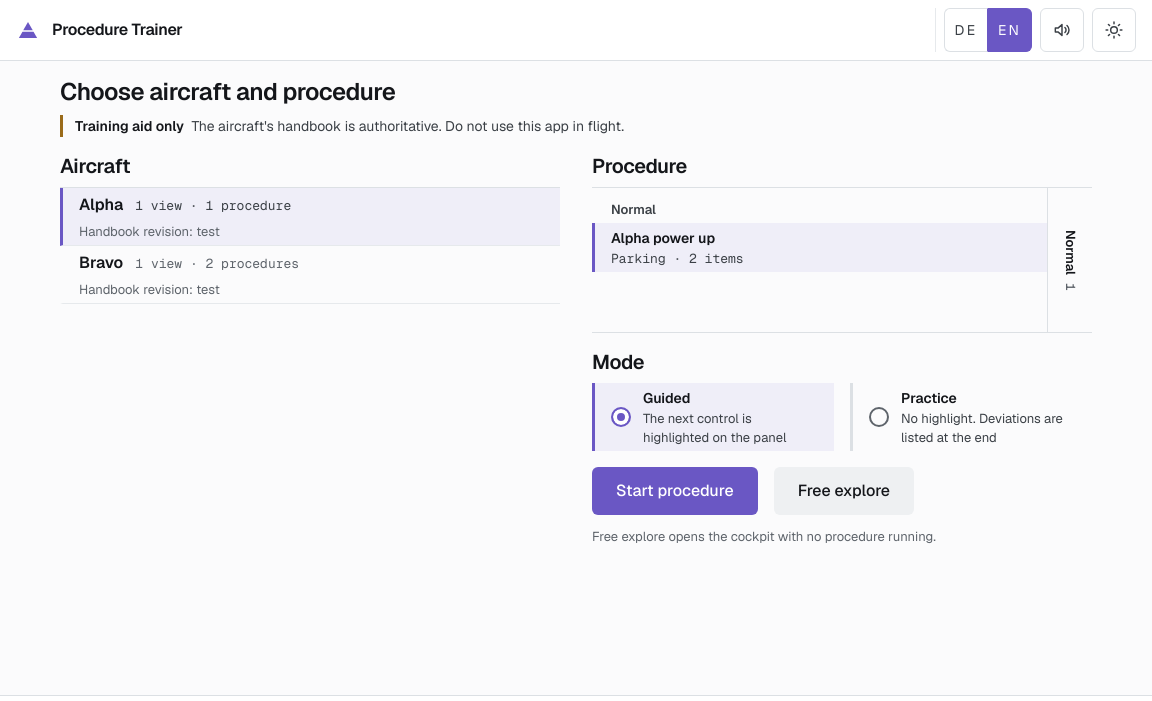
Test case: aircraft and procedure picker › lists the chosen aircraft procedures, grouped by type
Click the button "Bravo 1 view · 2 procedures Handbook revision: test" at (101, 262), box [60, 246, 560, 304]
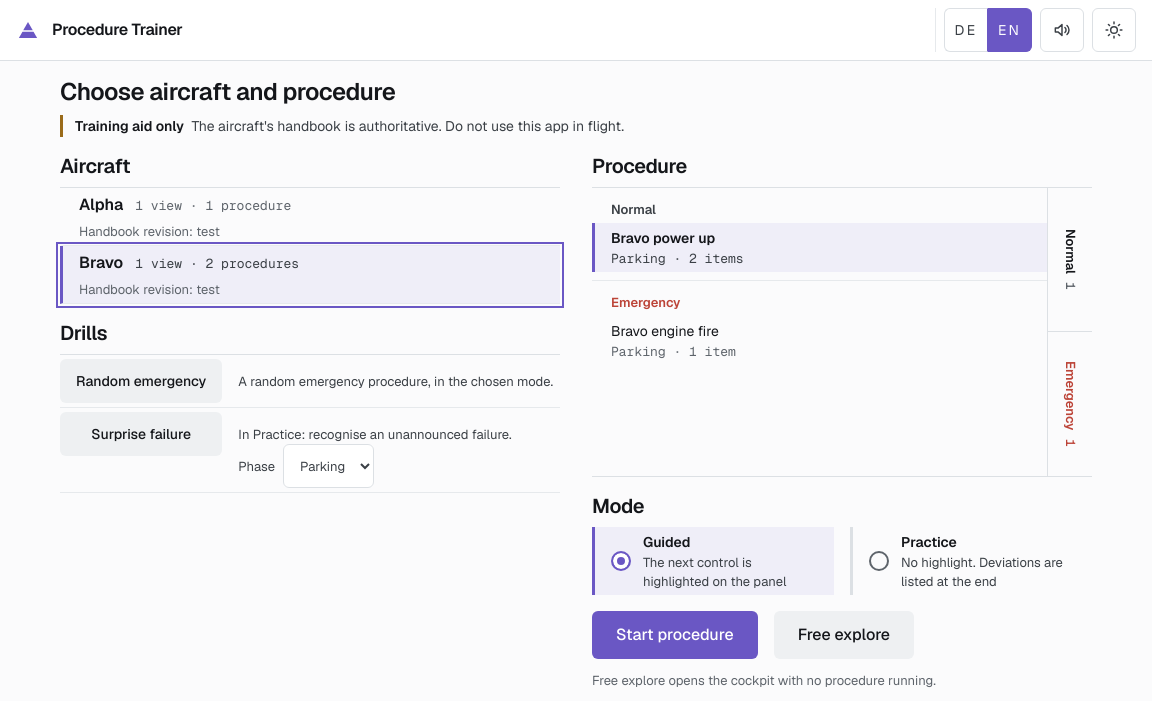
expect the button "Bravo engine fire Parking · 1 item" is shown: met, box [592, 316, 1047, 365]
